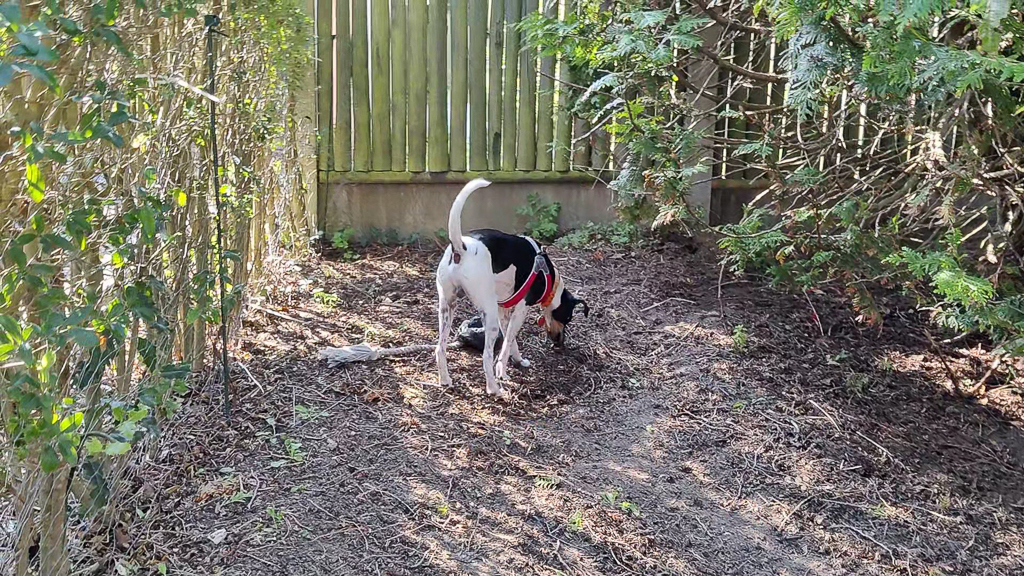Dog: (411, 161, 600, 413)
